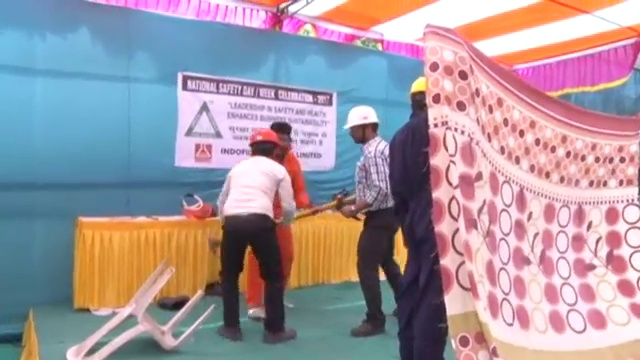helmet: (343, 102, 381, 130), (249, 126, 279, 143), (408, 72, 431, 94)
helmet_off: (273, 119, 294, 155)
helmet_on: (342, 101, 381, 146), (248, 127, 280, 160), (407, 72, 431, 114)
person: (388, 72, 451, 360), (216, 126, 297, 346), (338, 102, 400, 339), (247, 119, 310, 322)
